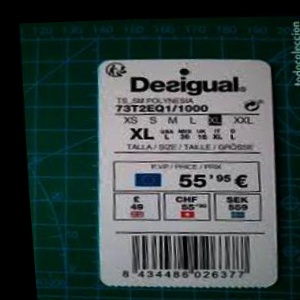desigual: (192, 41, 300, 101)
